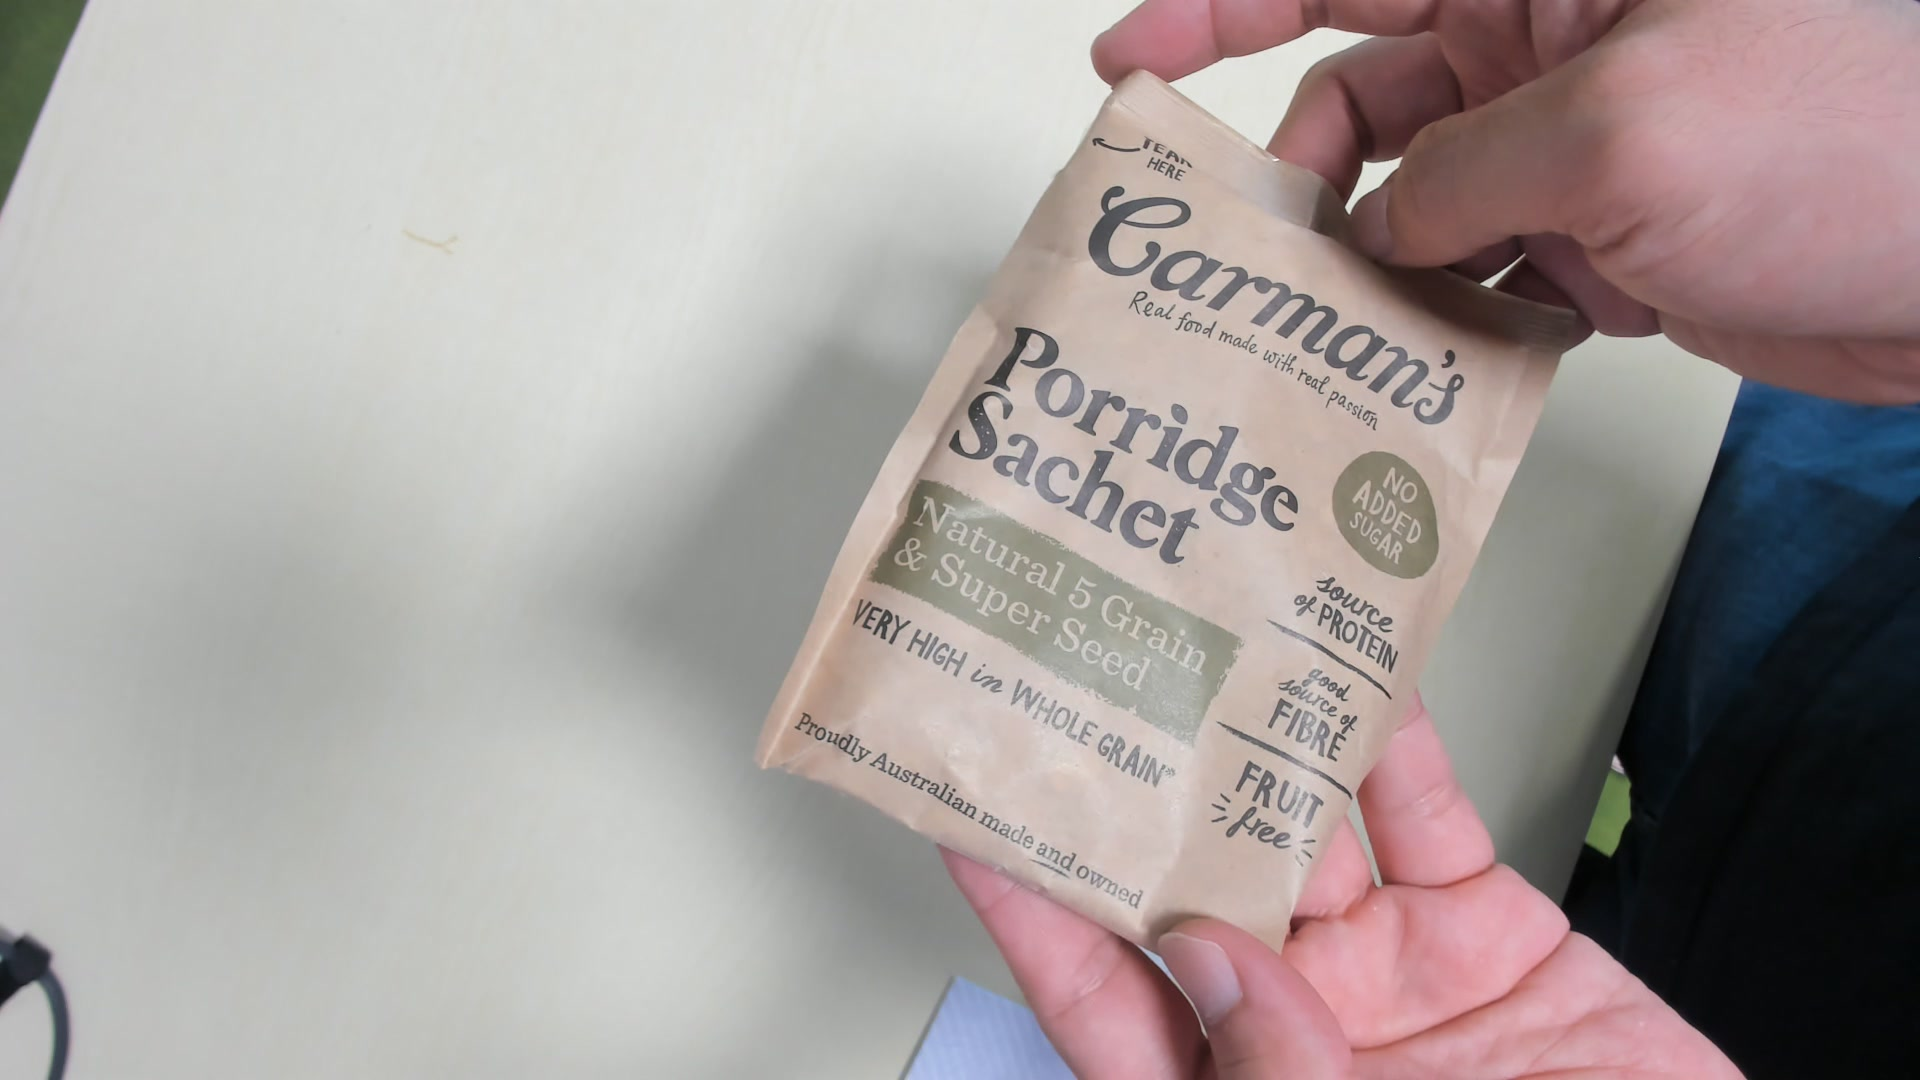InstantMeals_0-99g_NonHalal_NonHealthy: (740, 67, 1571, 975)
